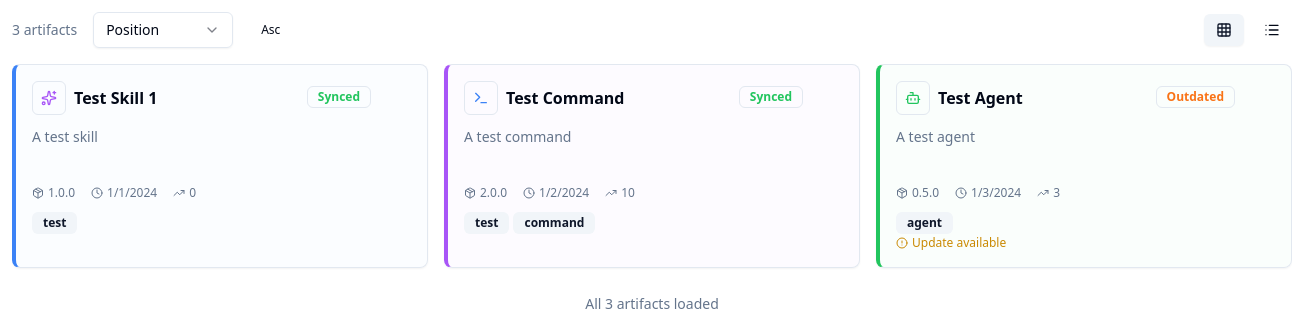
Scenario: GroupArtifactGrid › sorting › toggles sort order when clicking order button
Click the button with aria-label "sort descending" at (271, 30), box [249,14,292,46]
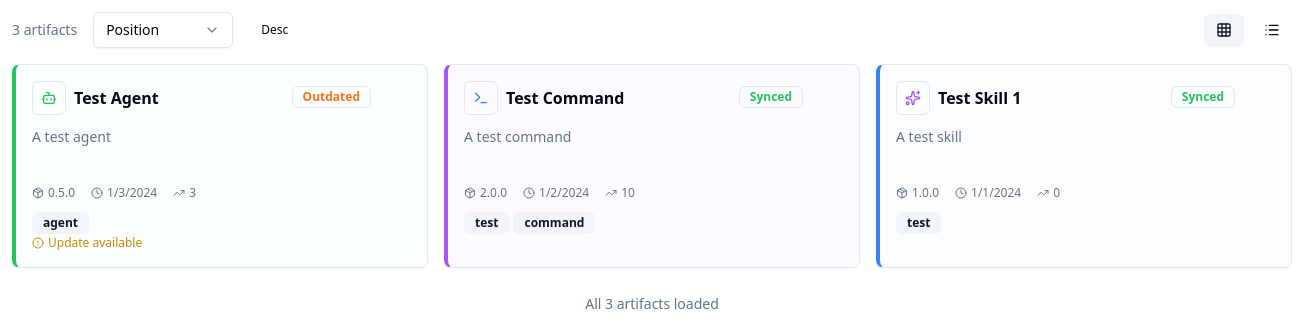
Result: the button with aria-label "sort ascending" reads "Desc" at [249,14,300,46]
